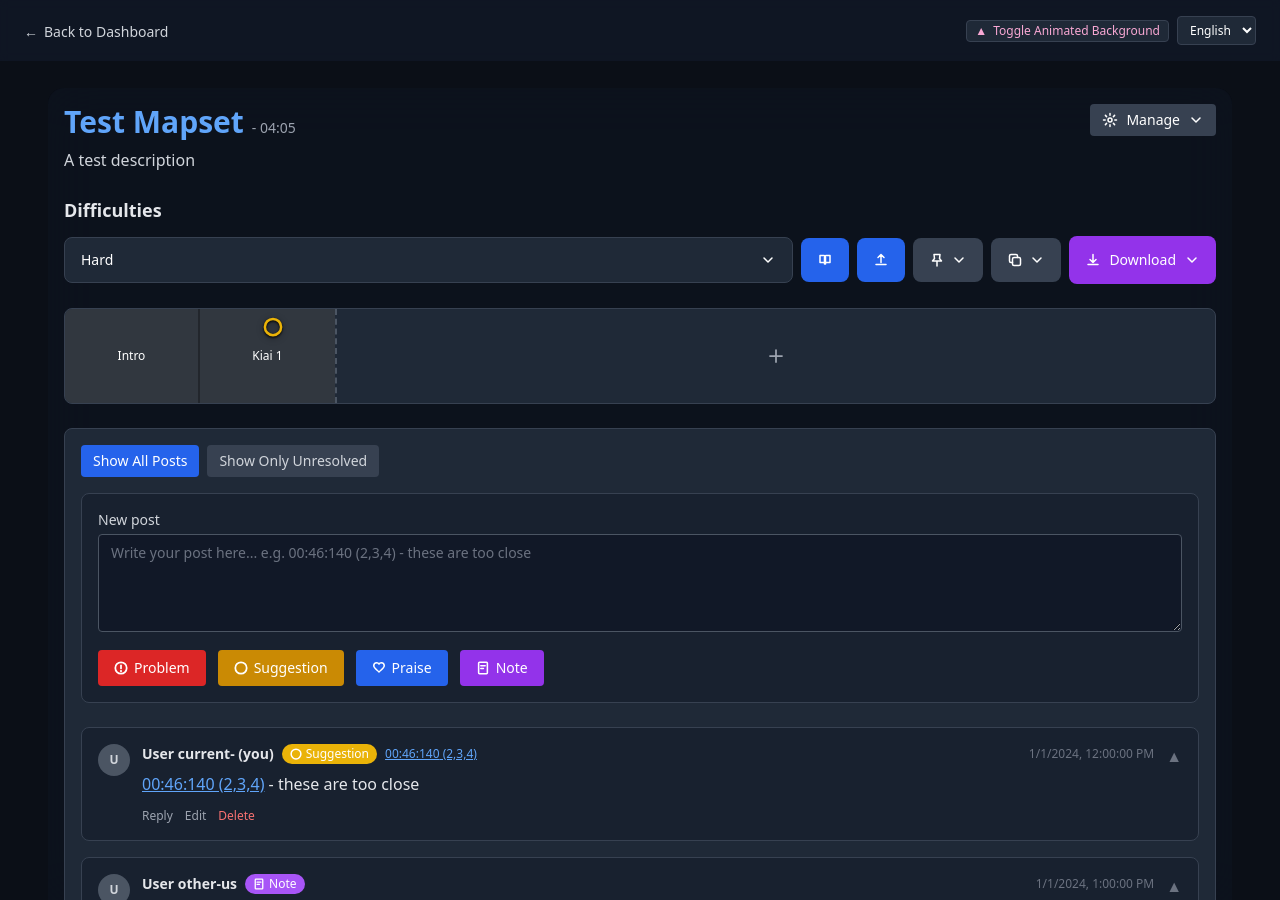
MapsetPage › opens create section modal when Add Section is clicked
Step 1. Click the button named "Add Section" → {"x": 775, "y": 356}, box [335,309,1215,403]
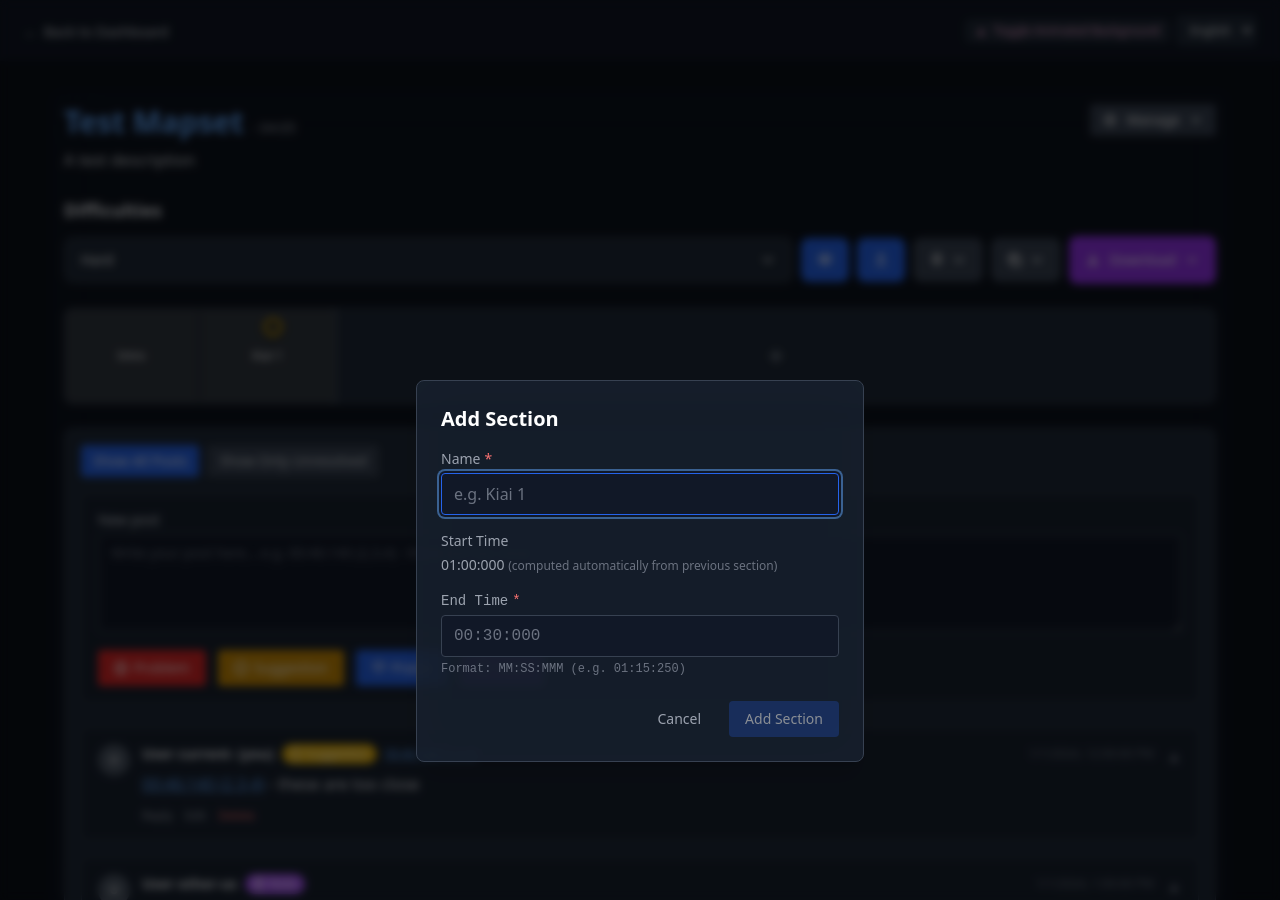
expect the heading "Add Section" is shown: met, box [441,405,559,432]
